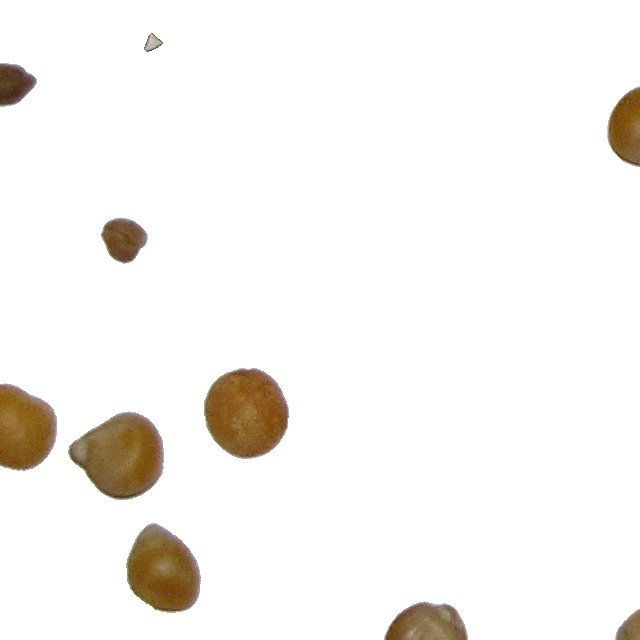buckwheat: (100, 217, 149, 265)
dill: (143, 32, 164, 53)
mais: (67, 410, 165, 501), (203, 367, 290, 460), (125, 522, 202, 614), (383, 600, 469, 640), (606, 84, 640, 169), (614, 604, 640, 640)
